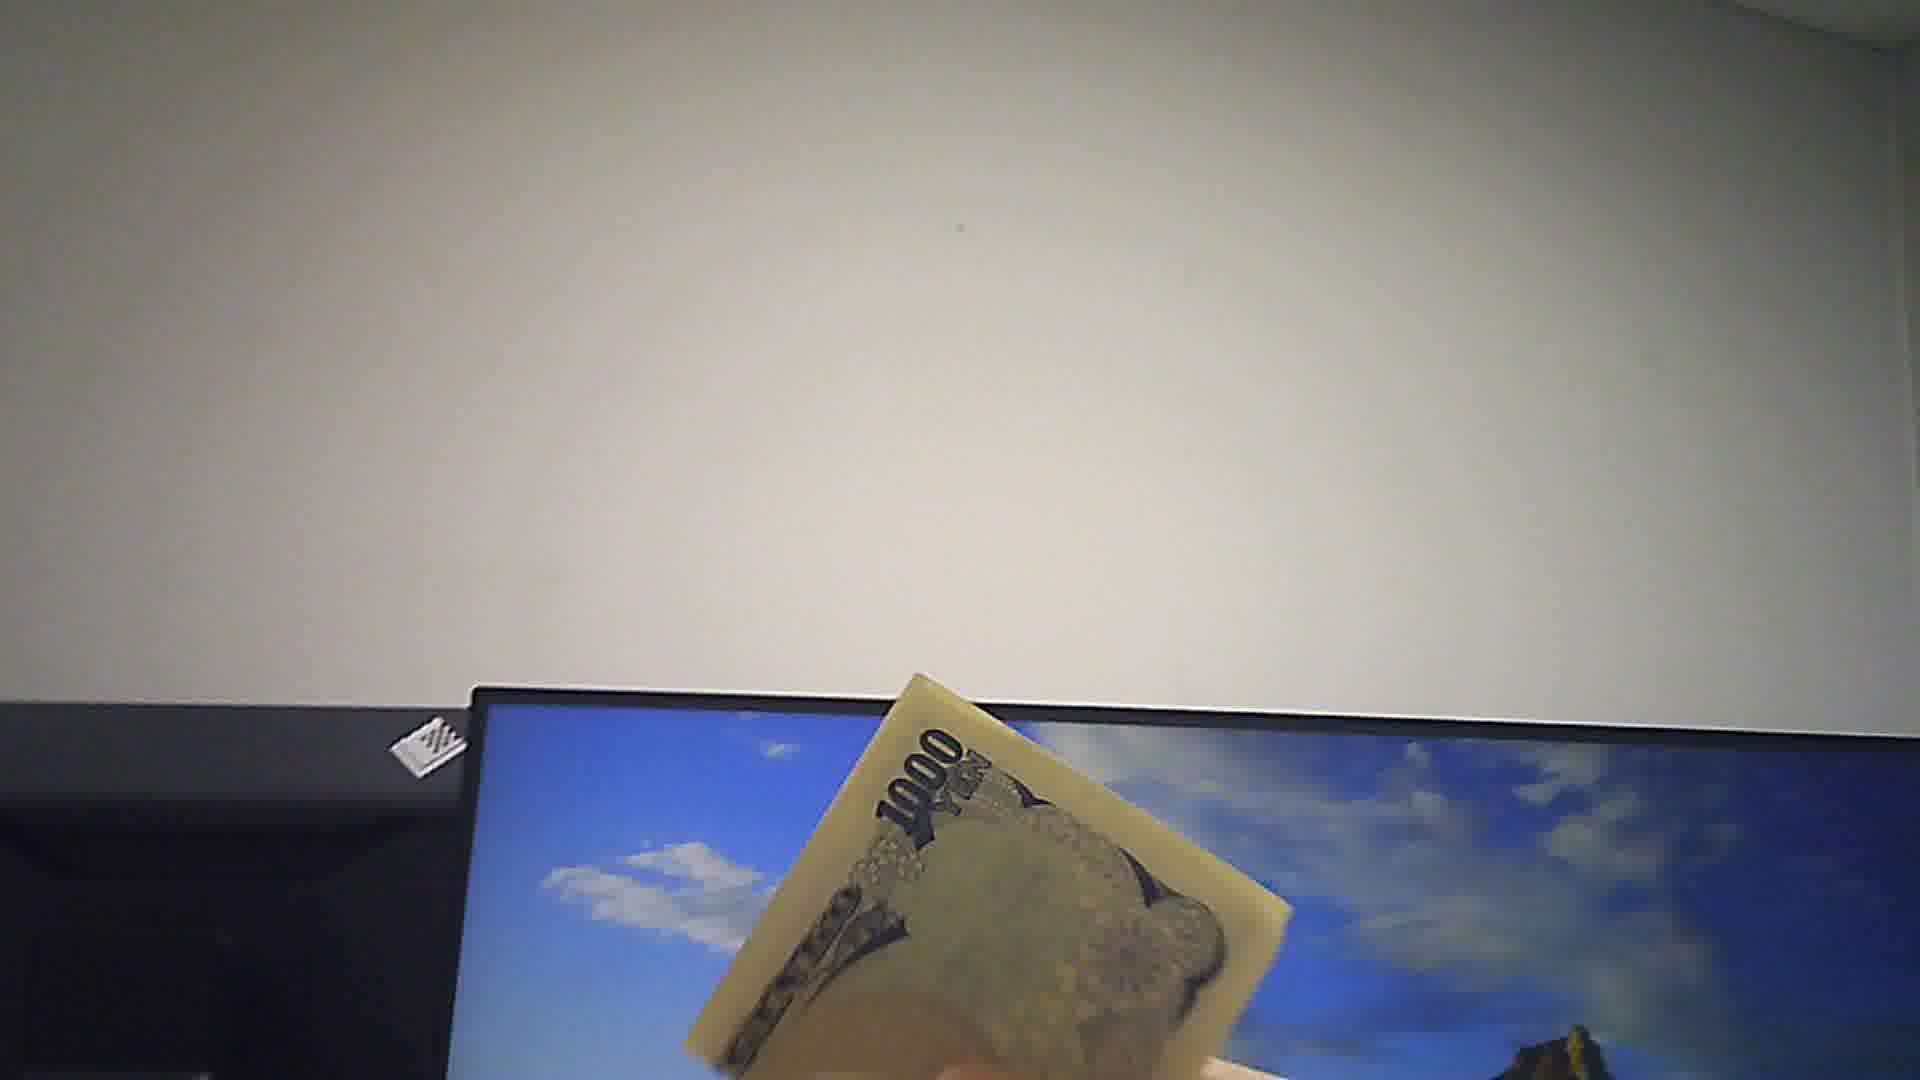1,000 Yen: (674, 659, 1288, 1077)
